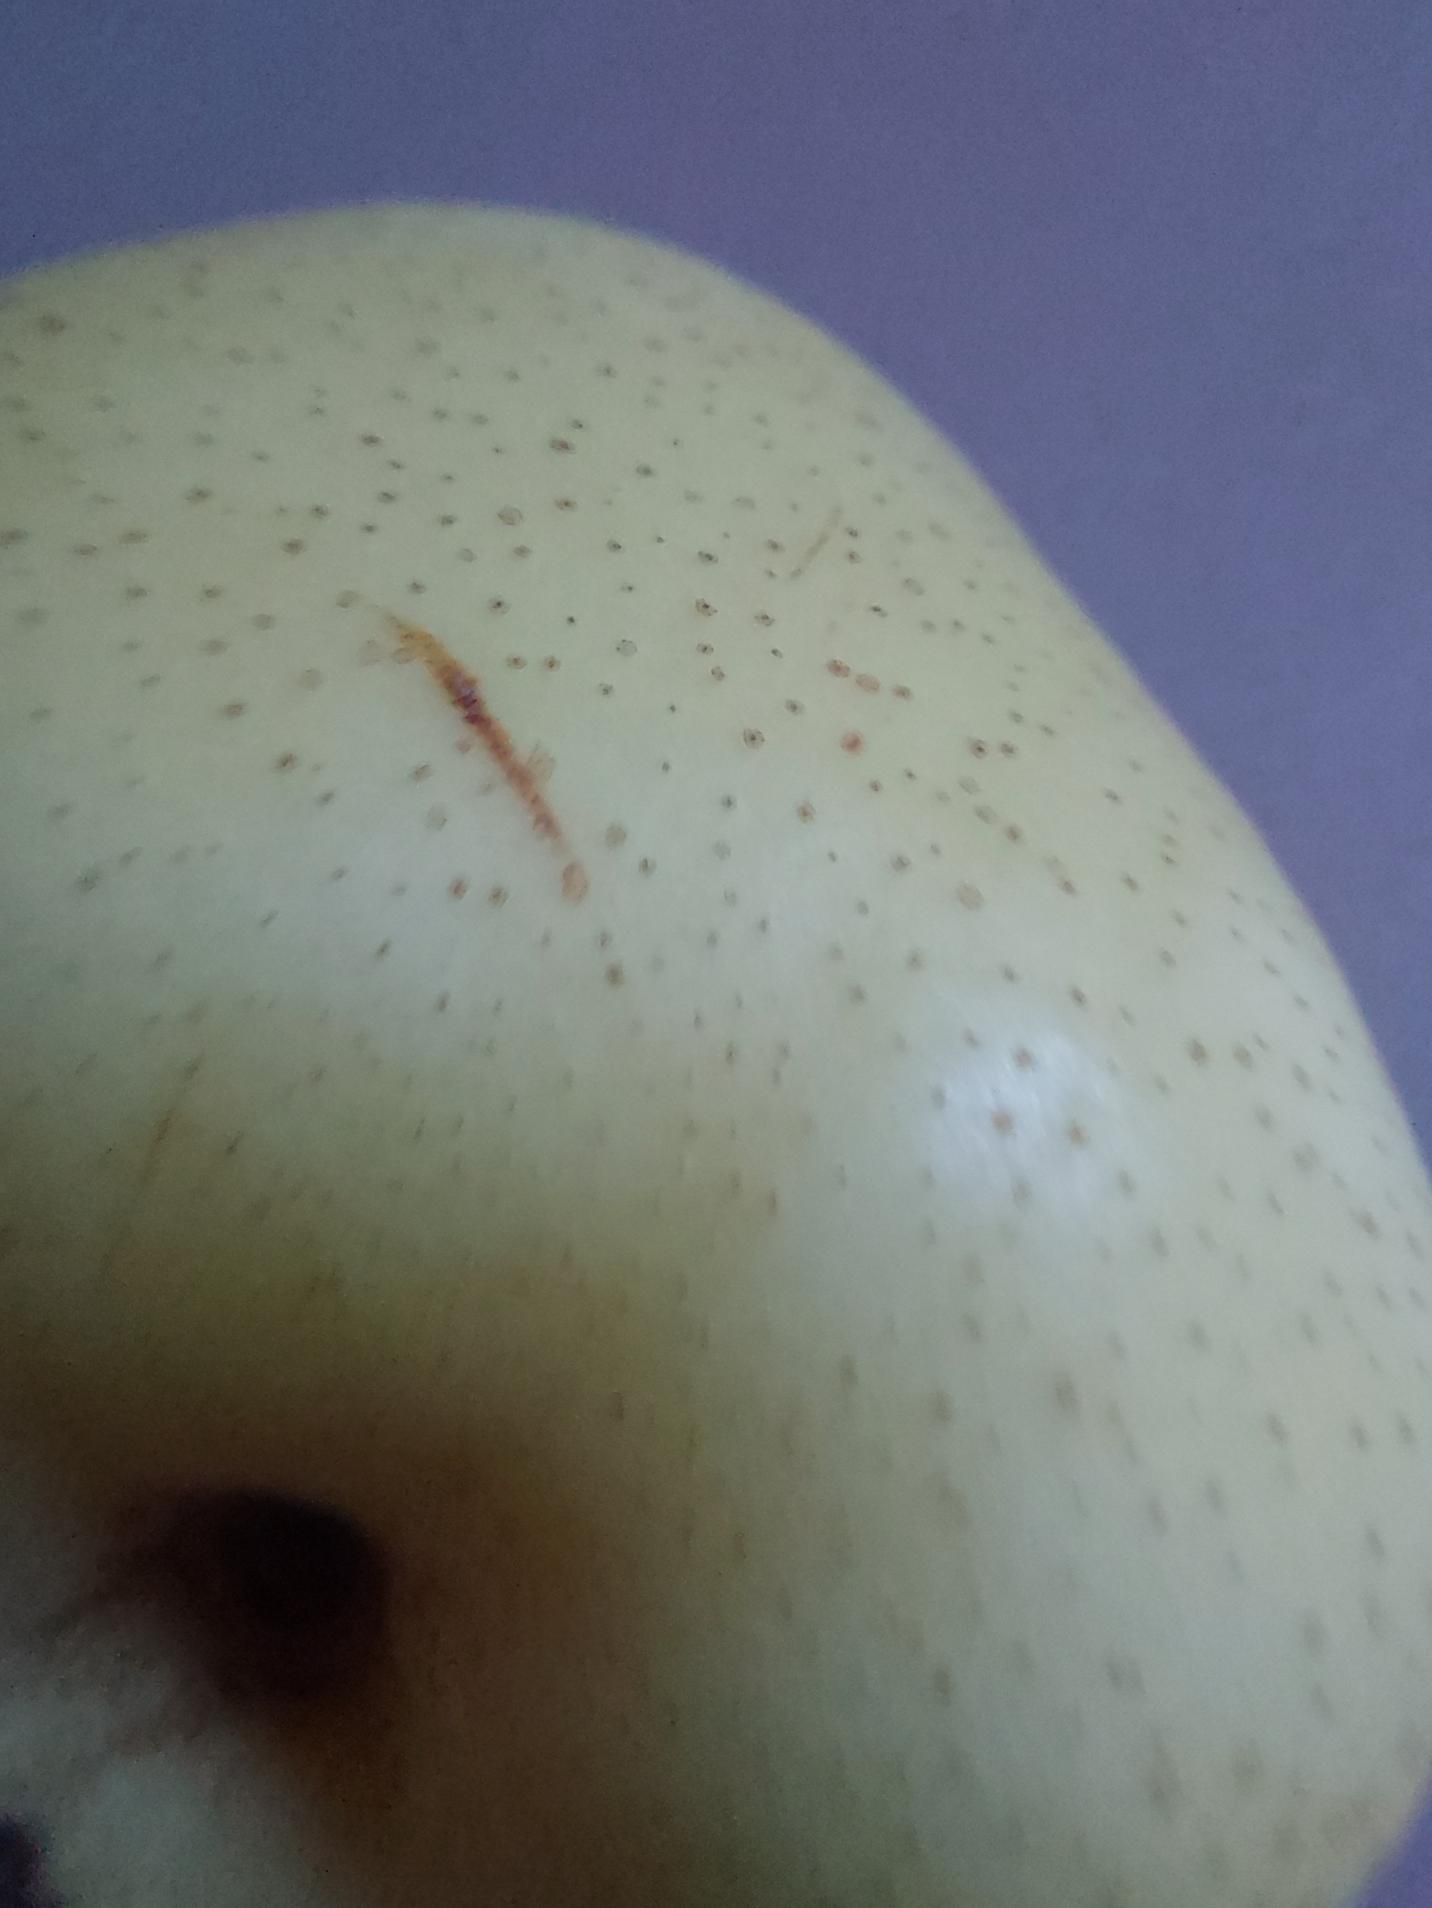Good Pear: (0, 174, 1432, 1908)
